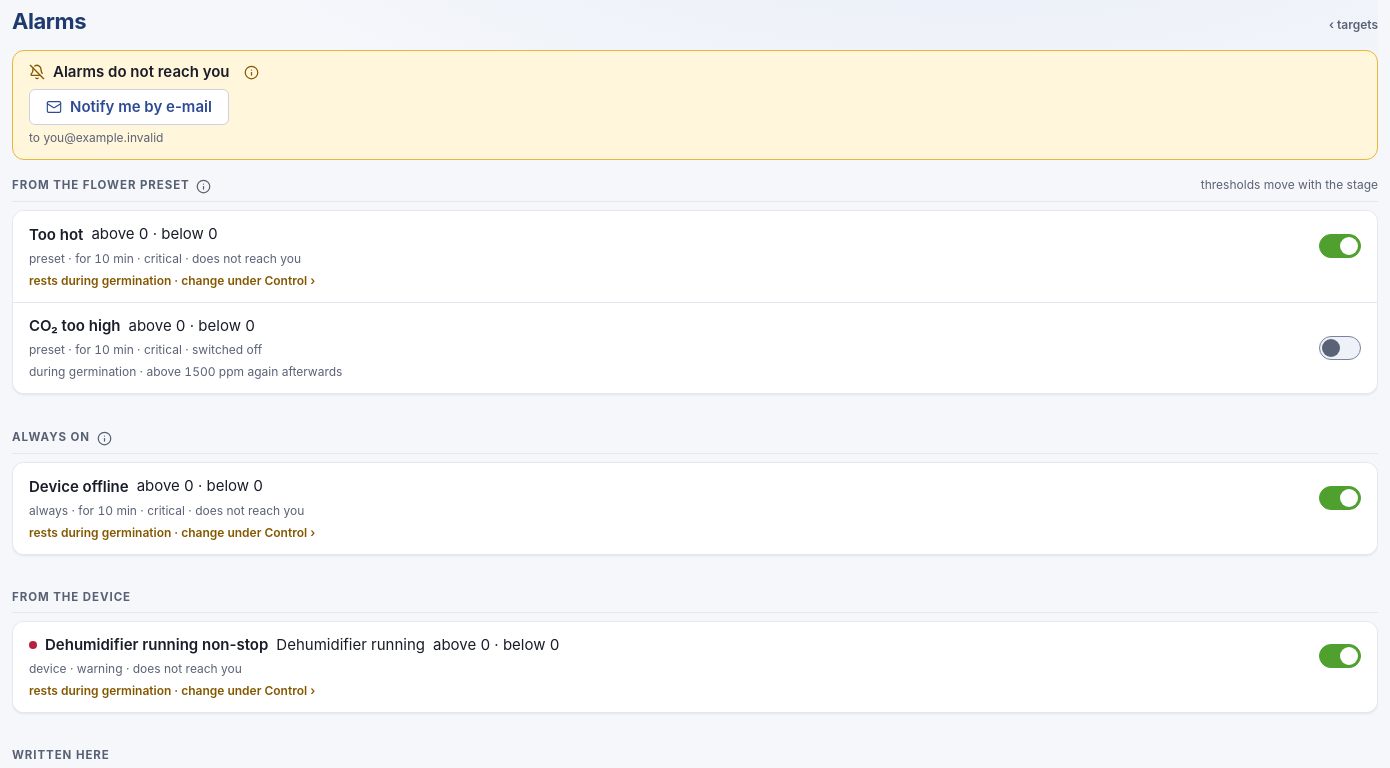
Test case: the alarm rules page › shows what the server said when it refused
Step 1. Click the switch named "Too hot on or off" → (1340,246), box [1319, 234, 1361, 258]
(page scrolled)
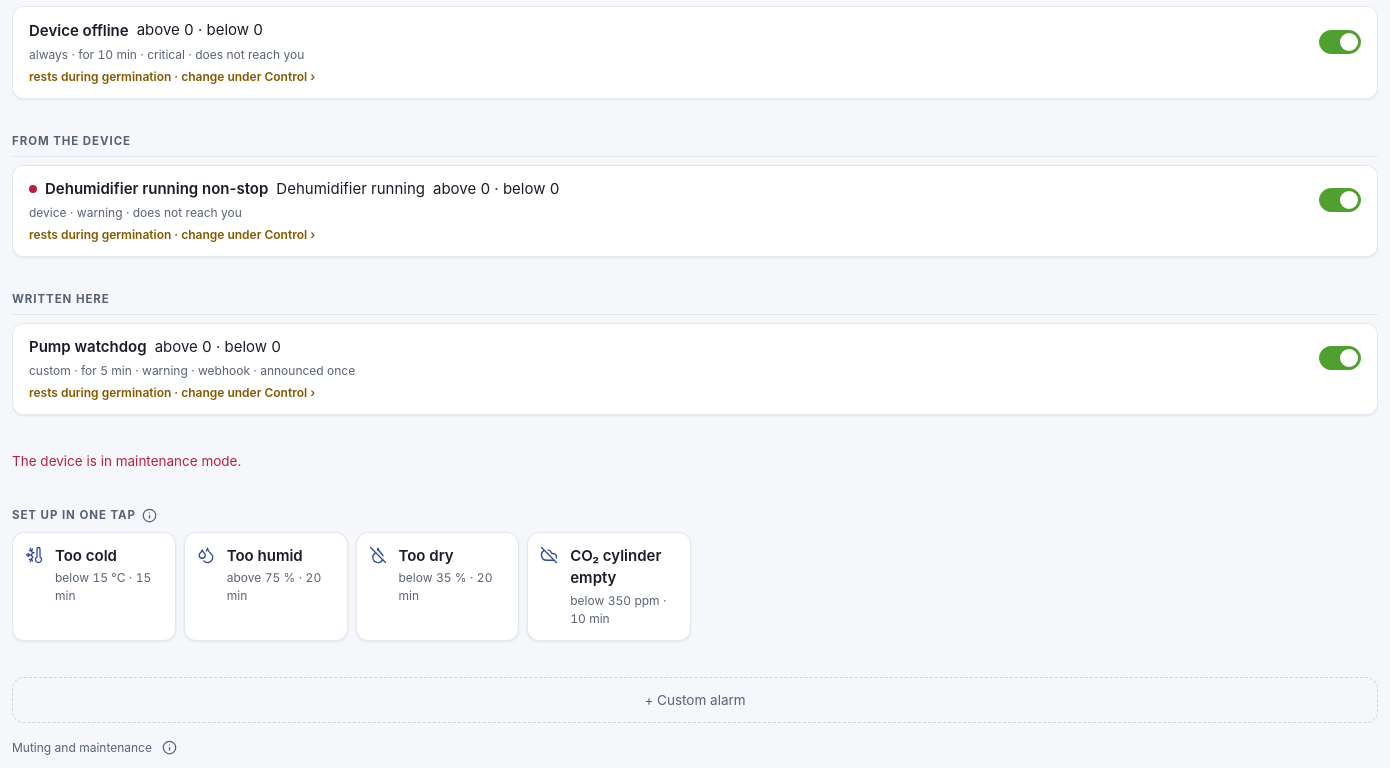
Expected: the message reads "The device is in maintenance mode.", [12, 454, 241, 470]
